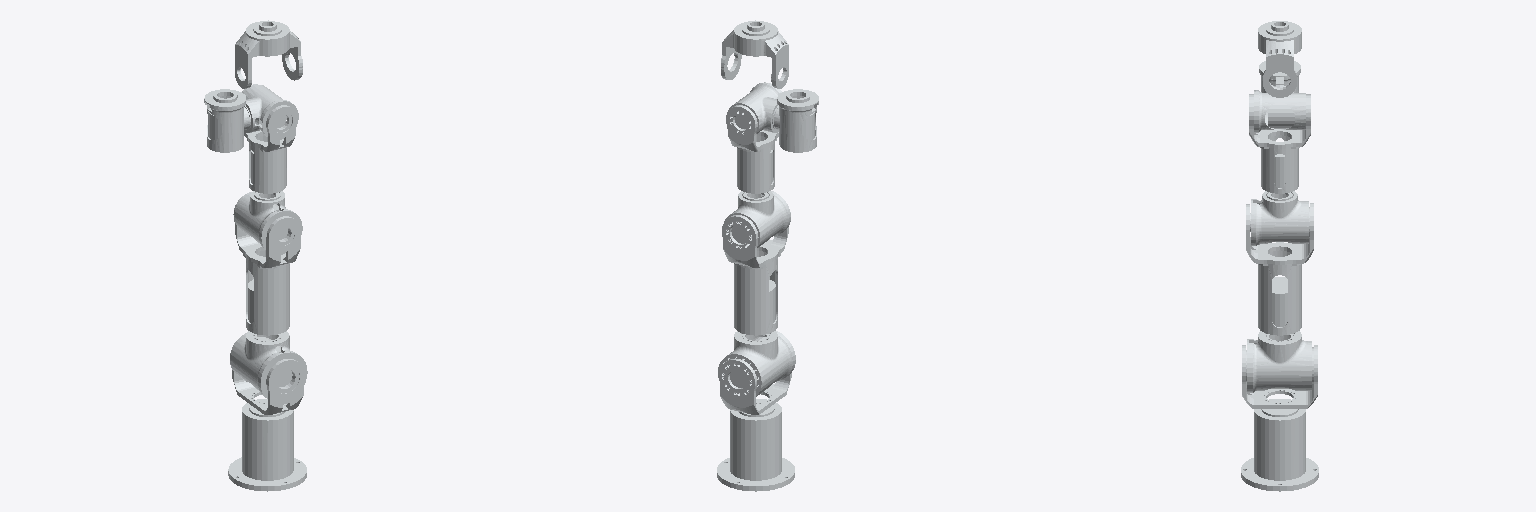
URDF robot description (05_urdf):
<?xml version="1.0" encoding="utf-8"?>
<!-- This URDF was automatically created by SolidWorks to URDF Exporter! Originally created by Stephen Brawner (brawner@gmail.com) 
     Commit Version: 1.6.0-1-g15f4949  Build Version: 1.6.7594.29634
     For more information, please see http://wiki.ros.org/sw_urdf_exporter -->
<robot
  name="05_urdf">
  <link
    name="base_link">
    <inertial>
      <origin
        xyz="-2.3114340298975E-18 -2.49661727576952E-18 0.0712047875746391E-18"
        rpy="0 0 0" />
      <mass
        value="0.773964808173607" />
      <inertia
        ixx="0.00165158388388288"
        ixy="1.77359155558733E-20"
        ixz="3.20730239042295E-20"
        iyy="0.00165158388388288"
        iyz="8.06725449229494E-20"
        izz="0.00108841820370514" />
    </inertial>
    <visual>
      <origin
        xyz="0 0 0"
        rpy="0 0 0" />
      <geometry>
        <mesh
          filename="../meshes/base_link.STL" />
      </geometry>
      <material
        name="">
        <color
          rgba="0.898039215686275 0.917647058823529 0.929411764705882 1" />
      </material>
    </visual>
    <collision>
      <origin
        xyz="0 0 0"
        rpy="0 0 0" />
      <geometry>
        <mesh
          filename="../meshes/base_link.STL" />
      </geometry>
    </collision>
  </link>
  <link
    name="link1">
    <inertial>
      <origin
        xyz="-6.27014466842875E-08 0.00482722745536075 -0.0389580164451526"
        rpy="0 0 0" />
      <mass
        value="0.11542582222179" />
      <inertia
        ixx="0.000465992025017058"
        ixy="4.77811144659095E-10"
        ixz="-2.80428730679331E-11"
        iyy="0.00016868491861097"
        iyz="-1.38771347564276E-05"
        izz="0.000408024931443451" />
    </inertial>
    <visual>
      <origin
        xyz="0 0 0"
        rpy="0 0 0" />
      <geometry>
        <mesh
          filename="../meshes/link1.STL" />
      </geometry>
      <material
        name="">
        <color
          rgba="0.898039215686275 0.917647058823529 0.929411764705882 1" />
      </material>
    </visual>
    <collision>
      <origin
        xyz="0 0 0"
        rpy="0 0 0" />
      <geometry>
        <mesh
          filename="../meshes/link1.STL" />
      </geometry>
    </collision>
  </link>
  <joint
    name="joint1"
    type="revolute">
    <origin
      xyz="0 0 0.217"
      rpy="0 0 0" />
    <parent
      link="base_link" />
    <child
      link="link1" />
    <axis
      xyz="0 0 1" />
    <limit
      lower="-3.14159"
      upper="3.14159"
      effort="0"
      velocity="0" />
  </joint>
  <link
    name="link2">
    <inertial>
      <origin
        xyz="-4.74279603278879E-07 -0.00238707203789365 0.00641482113063515"
        rpy="0 0 0" />
      <mass
        value="0.671933072663722" />
      <inertia
        ixx="0.00109683895158544"
        ixy="9.68673222116744E-10"
        ixz="-3.21977600576348E-09"
        iyy="0.00107503677098996"
        iyz="-6.71350327066775E-06"
        izz="0.000749785827852606" />
    </inertial>
    <visual>
      <origin
        xyz="0 0 0"
        rpy="0 0 0" />
      <geometry>
        <mesh
          filename="../meshes/link2.STL" />
      </geometry>
      <material
        name="">
        <color
          rgba="0.898039215686275 0.917647058823529 0.929411764705882 1" />
      </material>
    </visual>
    <collision>
      <origin
        xyz="0 0 0"
        rpy="0 0 0" />
      <geometry>
        <mesh
          filename="../meshes/link2.STL" />
      </geometry>
    </collision>
  </link>
  <joint
    name="joint2"
    type="revolute">
    <origin
      xyz="0 0 0"
      rpy="-1.5708 0 0" />
    <parent
      link="link1" />
    <child
      link="link2" />
    <axis
      xyz="0 0 1" />
    <limit
      lower="-1.570796"
      upper="1.570796"
      effort="0"
      velocity="0" />
  </joint>
  <link
    name="link3">
    <inertial>
      <origin
        xyz="-3.27991598820768E-08 0.000707831991228634 -0.134379473160013"
        rpy="0 0 0" />
      <mass
        value="0.535193477137708" />
      <inertia
        ixx="0.00228258309750054"
        ixy="2.85047320493322E-10"
        ixz="-9.55510821731168E-10"
        iyy="0.00205198816547035"
        iyz="-4.42970588133896E-05"
        izz="0.000648776561188868" />
    </inertial>
    <visual>
      <origin
        xyz="0 0 0"
        rpy="0 0 0" />
      <geometry>
        <mesh
          filename="../meshes/link3.STL" />
      </geometry>
      <material
        name="">
        <color
          rgba="0.898039215686275 0.917647058823529 0.929411764705882 1" />
      </material>
    </visual>
    <collision>
      <origin
        xyz="0 0 0"
        rpy="0 0 0" />
      <geometry>
        <mesh
          filename="../meshes/link3.STL" />
      </geometry>
    </collision>
  </link>
  <joint
    name="joint3"
    type="revolute">
    <origin
      xyz="0 -0.28493 0"
      rpy="1.5708 0 0" />
    <parent
      link="link2" />
    <child
      link="link3" />
    <axis
      xyz="0 0 1" />
    <limit
      lower="-3.14159"
      upper="3.14159"
      effort="0"
      velocity="0" />
  </joint>
  <link
    name="link4">
    <inertial>
      <origin
        xyz="6.66899653217958E-07 0.00223258980195162 -0.0058784433009843"
        rpy="0 0 0" />
      <mass
        value="0.432629764359648" />
      <inertia
        ixx="0.000550972464639143"
        ixy="6.5456634898788E-10"
        ixz="-7.61108420479432E-10"
        iyy="0.000532655284185299"
        iyz="-2.9733393283635E-06"
        izz="0.000363904632727618" />
    </inertial>
    <visual>
      <origin
        xyz="0 0 0"
        rpy="0 0 0" />
      <geometry>
        <mesh
          filename="../meshes/link4.STL" />
      </geometry>
      <material
        name="">
        <color
          rgba="0.898039215686275 0.917647058823529 0.929411764705882 1" />
      </material>
    </visual>
    <collision>
      <origin
        xyz="0 0 0"
        rpy="0 0 0" />
      <geometry>
        <mesh
          filename="../meshes/link4.STL" />
      </geometry>
    </collision>
  </link>
  <joint
    name="joint4"
    type="revolute">
    <origin
      xyz="0 0 0"
      rpy="1.5708 0 0" />
    <parent
      link="link3" />
    <child
      link="link4" />
    <axis
      xyz="0 0 1" />
    <limit
      lower="-1.91986"
      upper="0.785398"
      effort="0"
      velocity="0" />
  </joint>
  <link
    name="link5">
    <inertial>
      <origin
        xyz="-2.07288987001329E-08 0.000863731415071189 -0.0916501642823235"
        rpy="0 0 0" />
      <mass
        value="0.339446455633245" />
      <inertia
        ixx="0.000802197486080185"
        ixy="5.18265929844021E-11"
        ixz="-2.86160243916752E-10"
        iyy="0.000668633536221289"
        iyz="-2.24293849267877E-05"
        izz="0.000328372285722591" />
    </inertial>
    <visual>
      <origin
        xyz="0 0 0"
        rpy="0 0 0" />
      <geometry>
        <mesh
          filename="../meshes/link5.STL" />
      </geometry>
      <material
        name="">
        <color
          rgba="0.898039215686275 0.917647058823529 0.929411764705882 1" />
      </material>
    </visual>
    <collision>
      <origin
        xyz="0 0 0"
        rpy="0 0 0" />
      <geometry>
        <mesh
          filename="../meshes/link5.STL" />
      </geometry>
    </collision>
  </link>
  <joint
    name="joint5"
    type="revolute">
    <origin
      xyz="0 0.221 0"
      rpy="-1.5708 0 0" />
    <parent
      link="link4" />
    <child
      link="link5" />
    <axis
      xyz="0 0 1" />
    <limit
      lower="-3.14159"
      upper="3.14159"
      effort="0"
      velocity="0" />
  </joint>
  <link
    name="link6">
    <inertial>
      <origin
        xyz="-0.00330721620543797 -0.0439303050793391 0.00359276088791737"
        rpy="0 0 0" />
      <mass
        value="0.547888830979543" />
      <inertia
        ixx="0.00141850405143817"
        ixy="-7.98579931723387E-05"
        ixz="-6.50994152437735E-06"
        iyy="0.000532109462297349"
        iyz="-8.45910180026101E-05"
        izz="0.00141609272418089" />
    </inertial>
    <visual>
      <origin
        xyz="0 0 0"
        rpy="0 0 0" />
      <geometry>
        <mesh
          filename="../meshes/link6.STL" />
      </geometry>
      <material
        name="">
        <color
          rgba="0.898039215686275 0.917647058823529 0.929411764705882 1" />
      </material>
    </visual>
    <collision>
      <origin
        xyz="0 0 0"
        rpy="0 0 0" />
      <geometry>
        <mesh
          filename="../meshes/link6.STL" />
      </geometry>
    </collision>
  </link>
  <joint
    name="joint6"
    type="revolute">
    <origin
      xyz="0 0 0"
      rpy="-1.5708 -1.5708 0" />
    <parent
      link="link5" />
    <child
      link="link6" />
    <axis
      xyz="0 0 1" />
    <limit
      lower="-1.570796"
      upper="1.570796"
      effort="0"
      velocity="0" />
  </joint>
  <link
    name="link7">
    <inertial>
      <origin
        xyz="0.0505808151023279 -9.2706335535143E-08 0.000565537163071066"
        rpy="0 0 0" />
      <mass
        value="0.209412563196472" />
      <inertia
        ixx="0.000277624119983858"
        ixy="2.91597710496231E-11"
        ixz="8.41906536722752E-06"
        iyy="0.000301158382571895"
        iyz="3.83899193000883E-10"
        izz="0.000167308826304381" />
    </inertial>
    <visual>
      <origin
        xyz="0 0 0"
        rpy="0 0 0" />
      <geometry>
        <mesh
          filename="../meshes/link7.STL" />
      </geometry>
      <material
        name="">
        <color
          rgba="0.898039215686275 0.917647058823529 0.929411764705882 1" />
      </material>
    </visual>
    <collision>
      <origin
        xyz="0 0 0"
        rpy="0 0 0" />
      <geometry>
        <mesh
          filename="../meshes/link7.STL" />
      </geometry>
    </collision>
  </link>
  <joint
    name="joint7"
    type="revolute">
    <origin
      xyz="0.08365 0 0"
      rpy="-1.5708 0 0" />
    <parent
      link="link6" />
    <child
      link="link7" />
    <axis
      xyz="0 0 1" />
    <limit
      lower="-1.570796"
      upper="1.570796"
      effort="0"
      velocity="0" />
  </joint>
  <link
    name="end_link">
    <inertial>
      <origin
        xyz="-0.0254191848976723 -9.27063355352614E-08 0.000565537163071072"
        rpy="0 0 0" />
      <mass
        value="0.209412563196472" />
      <inertia
        ixx="0.000277624119983858"
        ixy="2.9159771054623E-11"
        ixz="8.41906536722753E-06"
        iyy="0.000301158382571895"
        iyz="3.83899193001296E-10"
        izz="0.000167308826304381" />
    </inertial>
    <visual>
      <origin
        xyz="0 0 0"
        rpy="0 0 0" />
      <geometry>
        <mesh
          filename="../meshes/end_link.STL" />
      </geometry>
      <material
        name="">
        <color
          rgba="0.898039215686275 0.917647058823529 0.929411764705882 1" />
      </material>
    </visual>
    <collision>
      <origin
        xyz="0 0 0"
        rpy="0 0 0" />
      <geometry>
        <mesh
          filename="../meshes/end_link.STL" />
      </geometry>
    </collision>
  </link>
  <joint
    name="end_joint"
    type="fixed">
    <origin
      xyz="0.08181 0 0"
      rpy="0 0 0" />
    <parent
      link="link7" />
    <child
      link="end_link" />
    <axis
      xyz="0 0 0" />
  </joint>
</robot>

--- Facts derived from the render (not from the file) ---
The picture shows the robot from 3 angles, left to right: view 1: azimuth 30°, elevation 25°; view 2: azimuth 150°, elevation 25°; view 3: azimuth 270°, elevation 25°; orthographic projection.
Model 05_urdf with 9 links and 8 joints (7 revolute, 1 fixed), rooted at base_link, posed every joint at zero.
Visible links, largest first — view 1: link3, base_link, link6, link2, link5, link4, link1, end_link, link7; view 2: link3, base_link, link6, link5, link2, link4, link1, end_link, link7; view 3: base_link, link3, link2, link5, link4, link6, end_link, link1, link7.
Boxes of the visible links, box(x1,y1,x2,y2) form: link3: box(233, 192, 300, 335); base_link: box(228, 399, 306, 491); link6: box(204, 85, 298, 152); link2: box(230, 331, 307, 398); link5: box(242, 84, 297, 193); link4: box(234, 191, 302, 254); link1: box(232, 343, 304, 414); end_link: box(235, 20, 302, 85); link7: box(235, 25, 302, 88); link3: box(722, 215, 788, 335); base_link: box(717, 399, 794, 491); link6: box(728, 82, 818, 152); link5: box(726, 105, 778, 193); link2: box(718, 331, 795, 396); link4: box(724, 191, 790, 247); link1: box(719, 358, 791, 414); end_link: box(721, 20, 788, 85); link7: box(721, 25, 788, 88); base_link: box(1241, 399, 1318, 491); link3: box(1246, 203, 1313, 335); link2: box(1246, 331, 1313, 392); link5: box(1249, 94, 1310, 193); link4: box(1250, 191, 1309, 245); link6: box(1254, 61, 1305, 132); end_link: box(1258, 21, 1301, 94); link1: box(1242, 345, 1317, 408); link7: box(1258, 25, 1301, 97).
Bounding box of the posed robot: 0.197 × 0.142 × 0.8964 m (x, y, z).
9 mesh visuals loaded from 9 distinct referenced files (9 binary STL).
